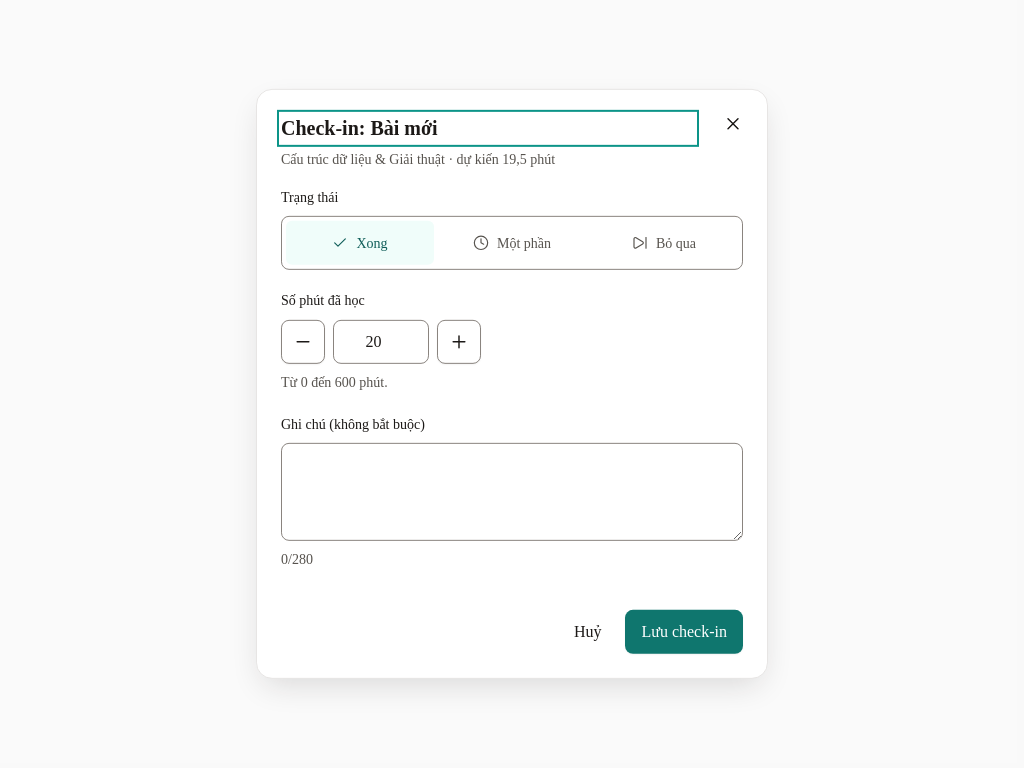
CheckInSheet (DESIGN_SYSTEM §9, §10) › a failed request (the network) says the save failed, with "Thử lại"
The width and height of the screenshot is (1024, 768).
Click the button "Lưu check-in".
click(684, 632)  # box [626,610,743,654]
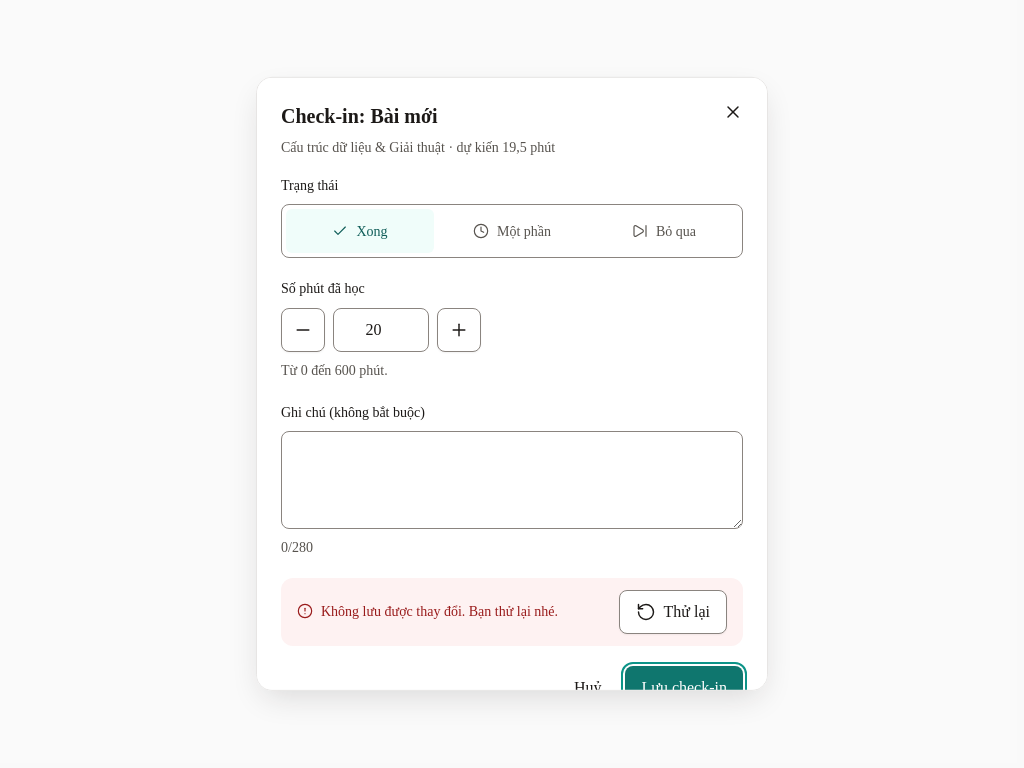
Expected: the message shows "Không lưu được thay đổi. Bạn thử lại nhé.", [321,604,558,619]
Expected: the button "Thử lại" is shown, [619,590,727,634]
